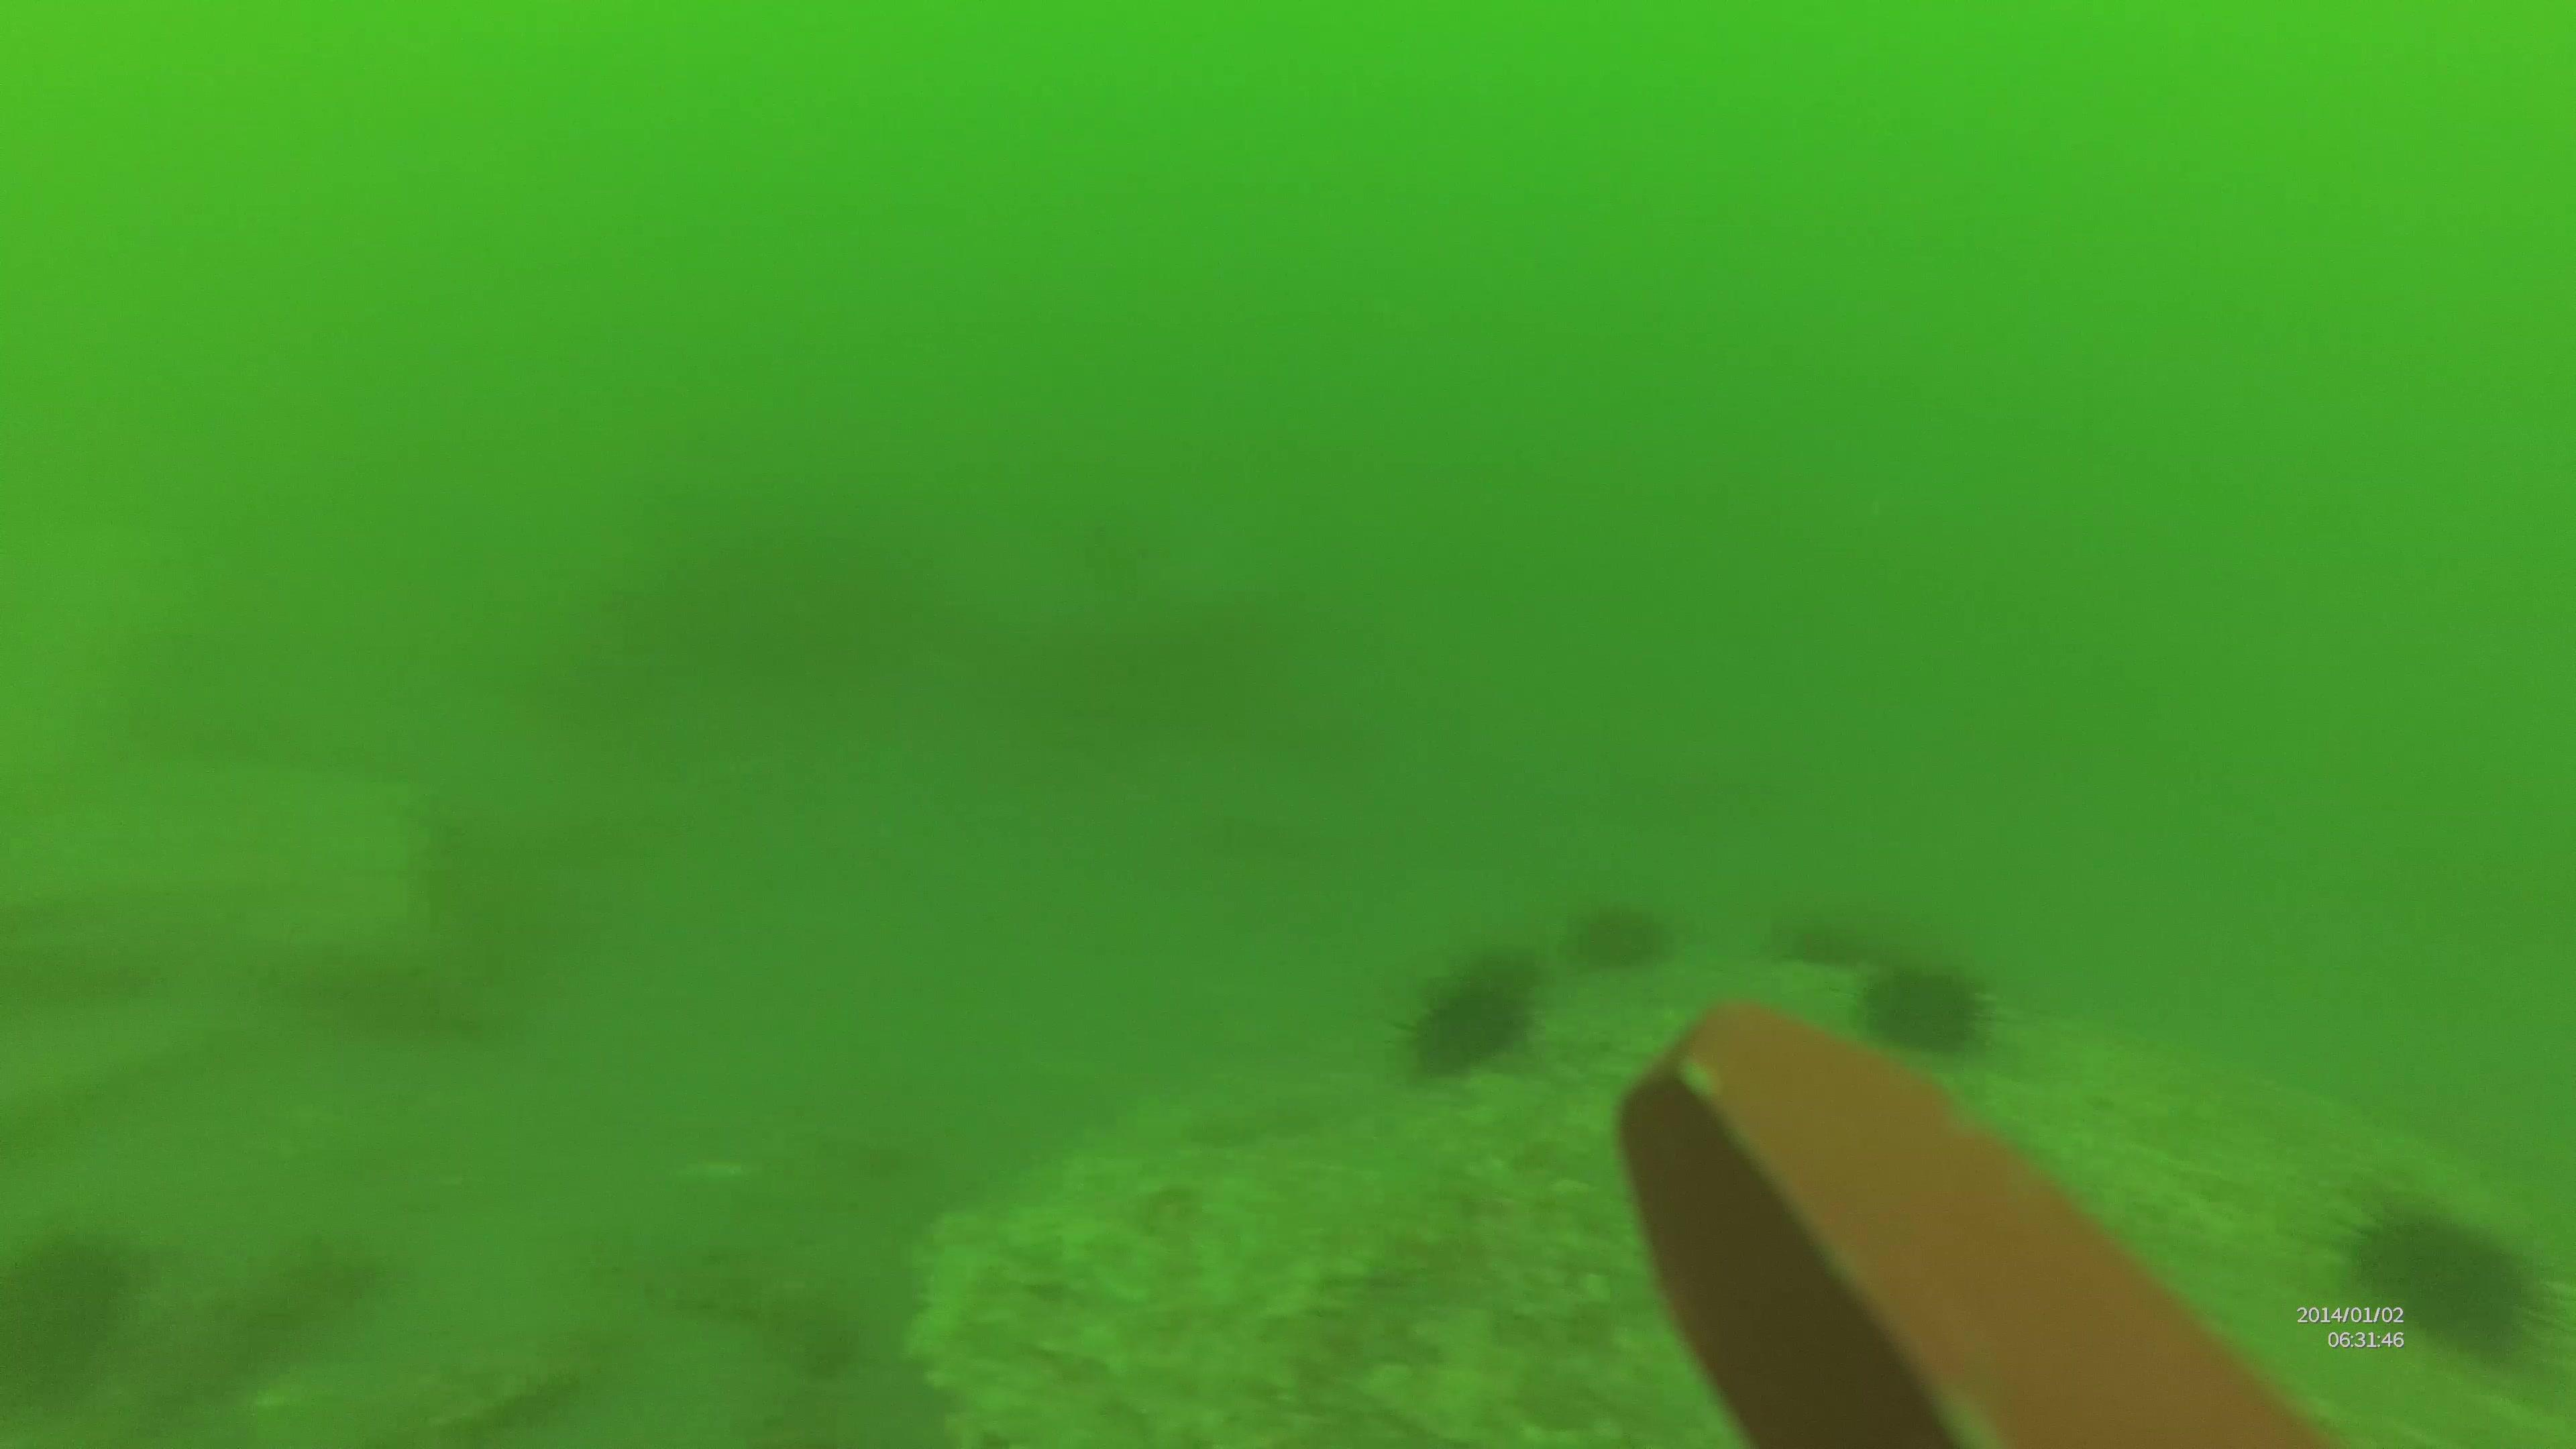echinus: (2346, 1189, 2574, 1378), (1401, 947, 1552, 1074), (1858, 955, 2001, 1051), (1568, 897, 1674, 982), (1769, 909, 1895, 973)
